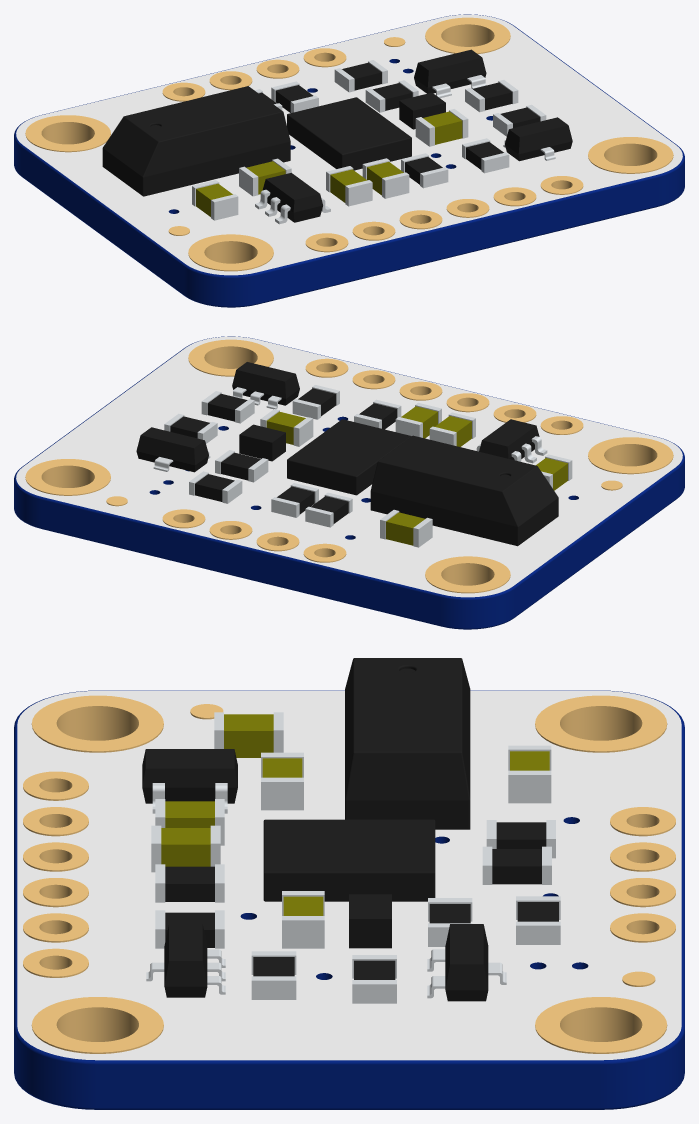
Rendered from gyroscope.glb.
3 renders of one model, top to bottom at view 1: azimuth 30°, elevation 25°; view 2: azimuth 150°, elevation 25°; view 3: azimuth 270°, elevation 25°, orthographic. The views are drawn at different scales.
Visible parts, largest first — view 1: Adafruit_BNO055_AP214; view 2: Adafruit_BNO055_AP214; view 3: Adafruit_BNO055_AP214.
Part boxes in pixels (x1=…): Adafruit_BNO055_AP214: x1=14, y1=14, x2=684, y2=307; Adafruit_BNO055_AP214: x1=14, y1=336, x2=684, y2=629; Adafruit_BNO055_AP214: x1=14, y1=658, x2=684, y2=1109.
Bounding box in the file's own units: 0.0267 × 0.0042 × 0.0203.
